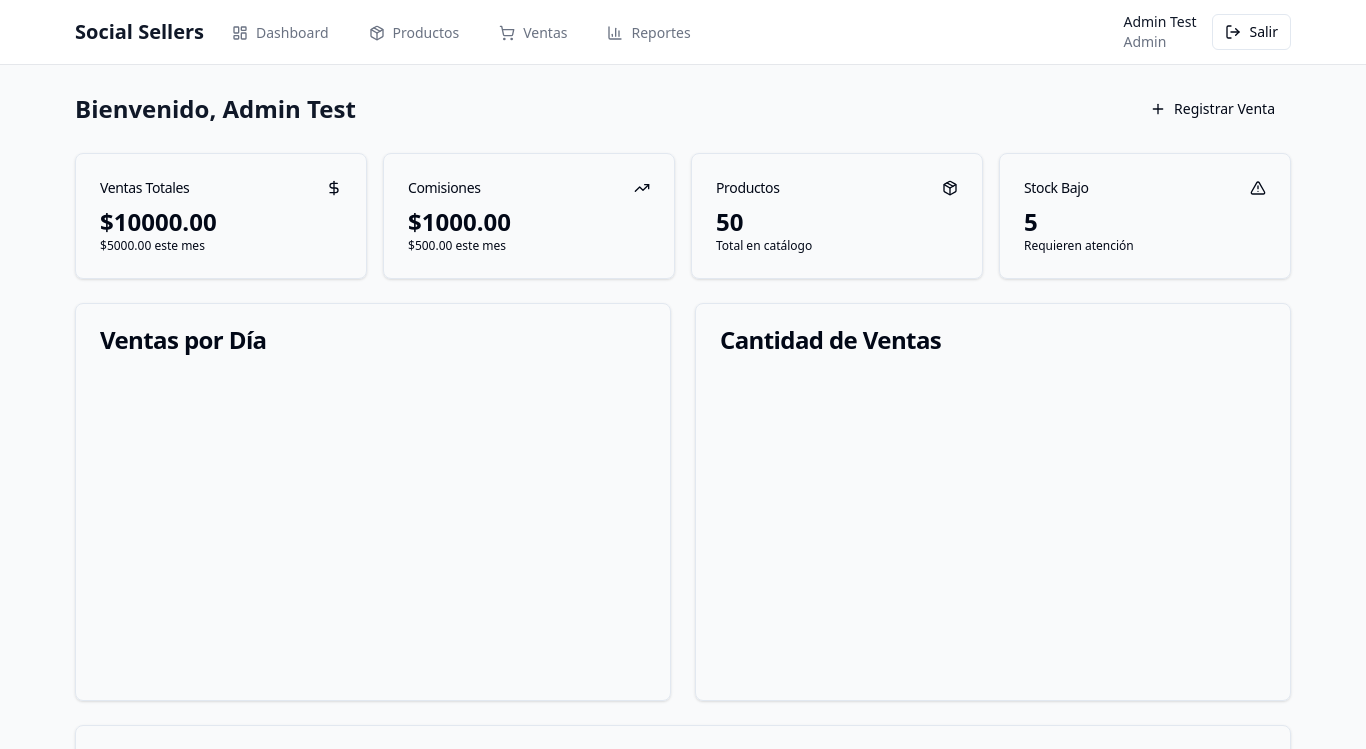
Test: Dashboard - Funcionalidad de ventas › debe abrir el modal al hacer click en "Registrar Venta"
Click the button "Registrar Venta" at (1212, 109), box [1134,89,1291,129]
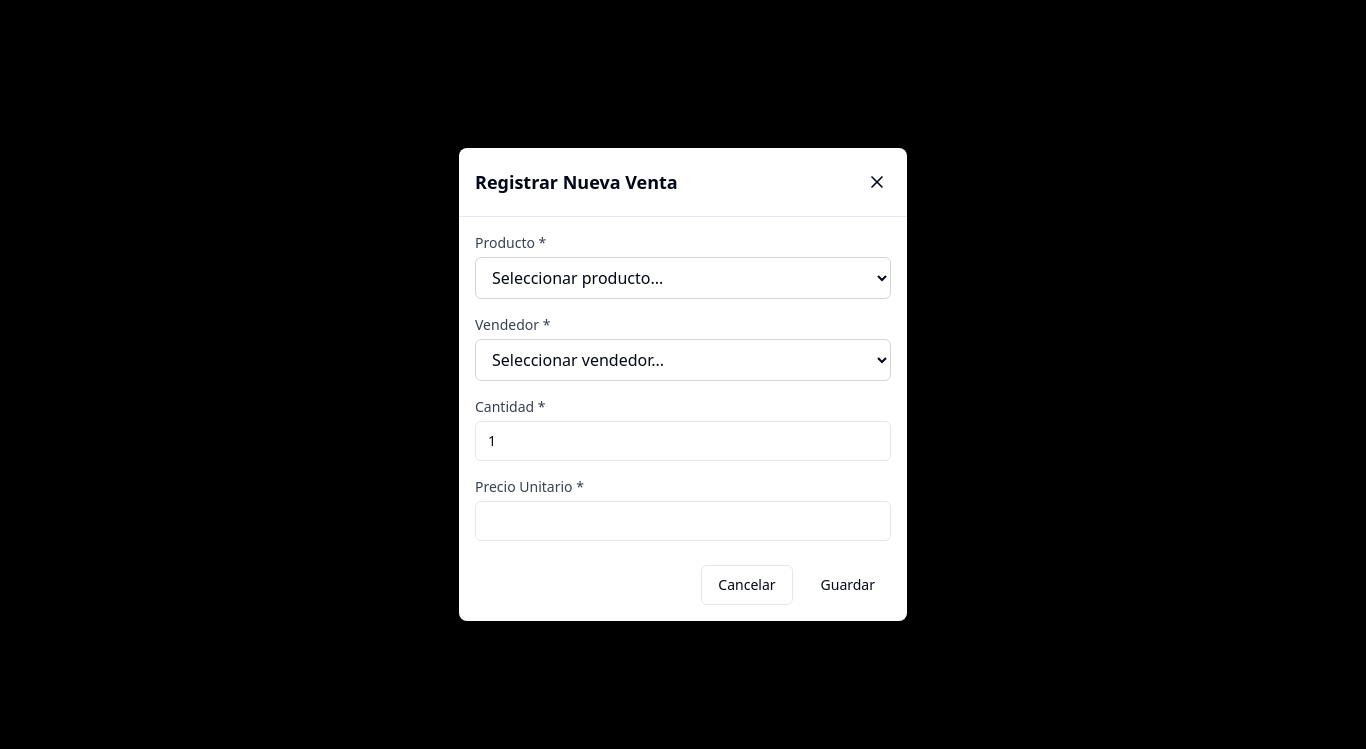
Expected: the heading "Registrar Nueva Venta" is shown, [475,168,678,196]
